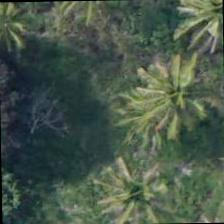Kelapa_Sawit: (127, 56, 219, 148), (87, 149, 179, 223), (0, 1, 49, 66), (174, 0, 223, 59)
